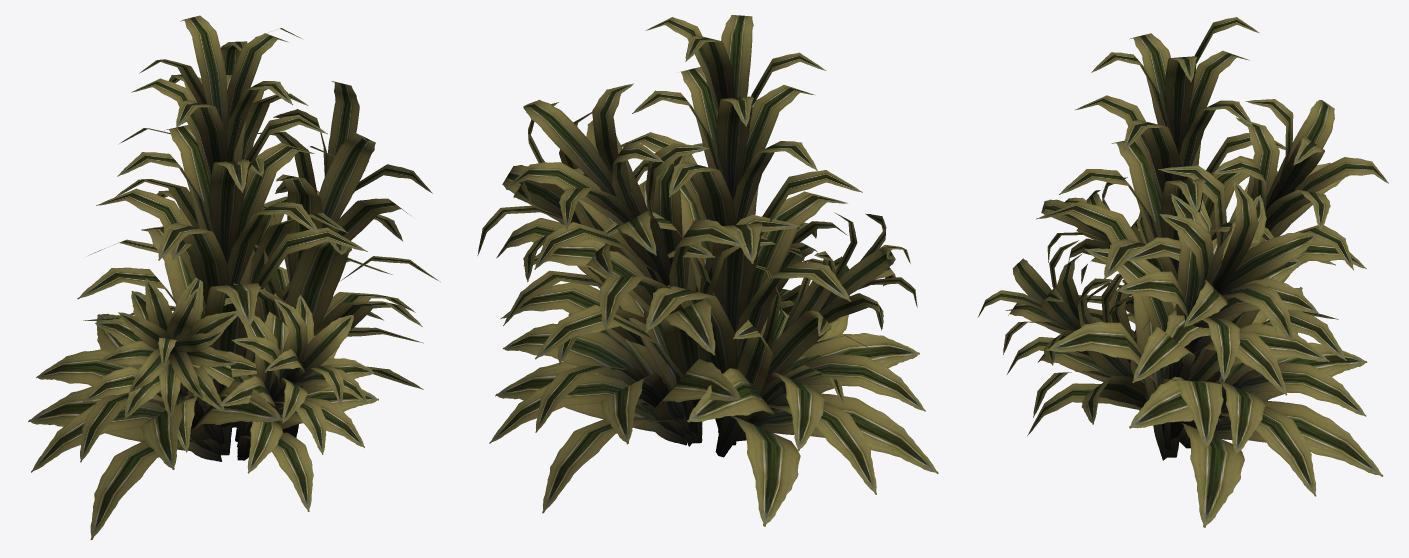
File: trop_shrub_03.obj
The picture shows the model from 3 angles, left to right: view 1: azimuth 30°, elevation 25°; view 2: azimuth 150°, elevation 25°; view 3: azimuth 270°, elevation 25°; orthographic projection. The views are drawn at different scales.
Visible parts, largest first — view 1: trop_shrub_03; view 2: trop_shrub_03; view 3: trop_shrub_03.
Part boxes in pixels (x1,y1,x2,y2): trop_shrub_03: (28,15,440,539); trop_shrub_03: (477,15,938,526); trop_shrub_03: (978,17,1388,527).
Bounding box in the file's own units: 182 × 194 × 169.
